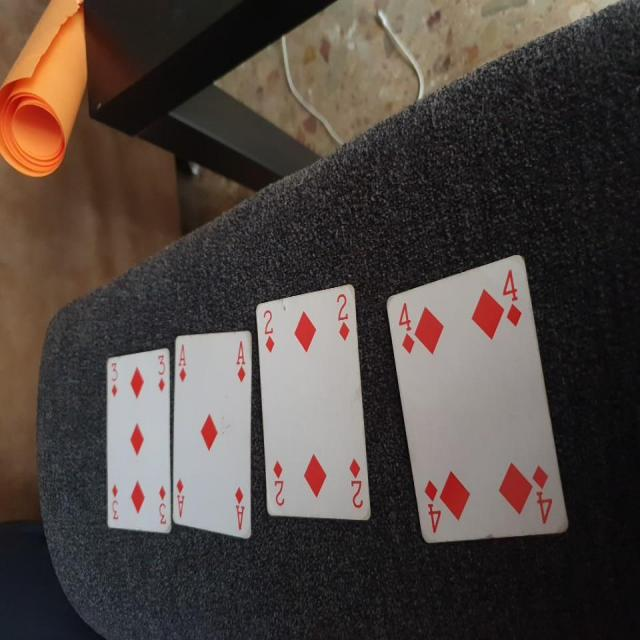2 Diamonds: (252, 282, 374, 525)
3 Diamonds: (104, 348, 174, 536)
4 Diamonds: (384, 250, 572, 546)
A Diamonds: (168, 327, 257, 536)
